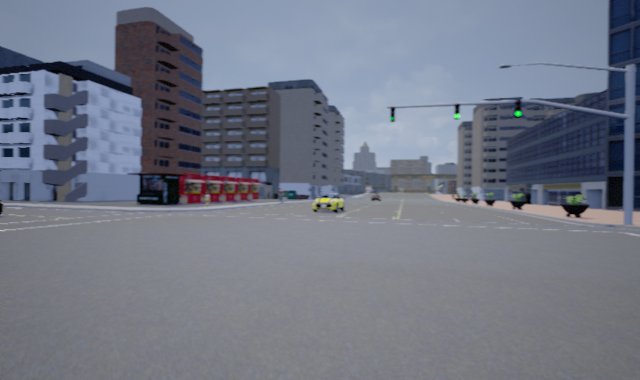vehicle: (310, 192, 345, 213)
